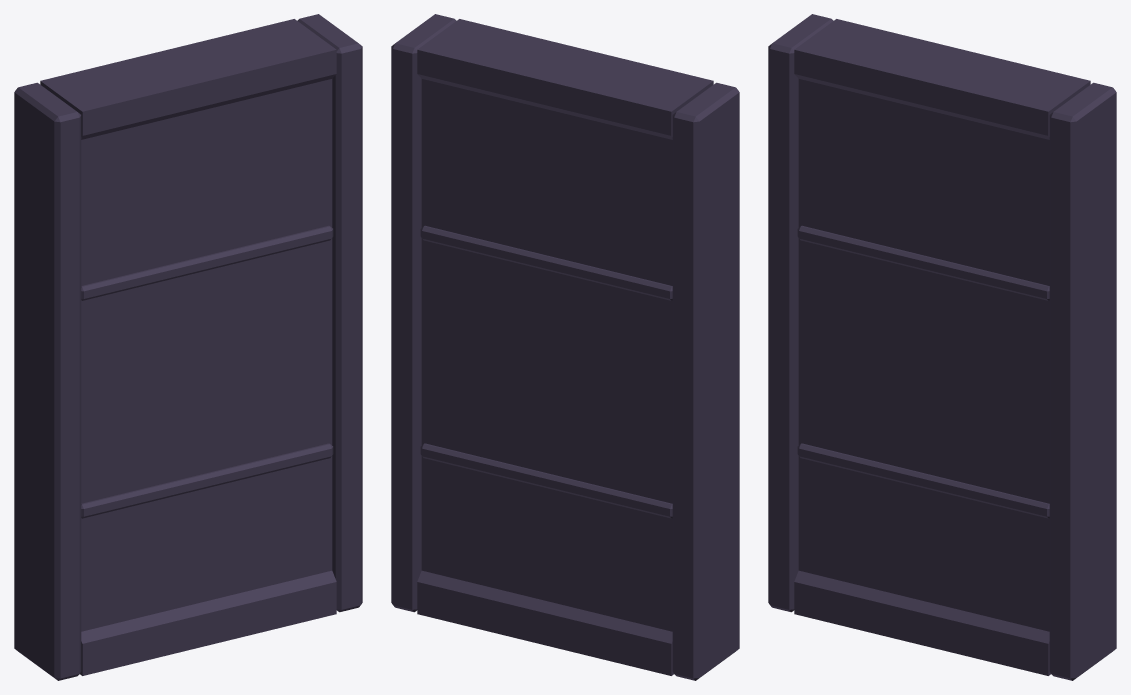
The model's file is Wall.fbx.
3 views of the same model, side by side, from view 1: azimuth 30°, elevation 25°; view 2: azimuth 150°, elevation 25°; view 3: azimuth 330°, elevation 25° (orthographic).
Visible parts, largest first — view 1: Wall; view 2: Wall; view 3: Wall.
Part boxes in pixels (x1,y1,x2,y2): Wall: (14, 14, 362, 680); Wall: (391, 14, 739, 680); Wall: (768, 14, 1116, 680).
Size of the model in its own units: 8 by 14 by 2.
